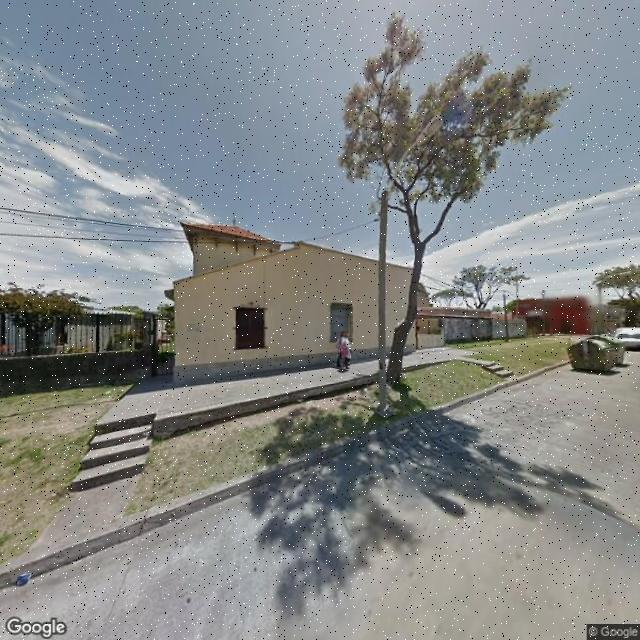garbage container: (564, 326, 635, 381)
